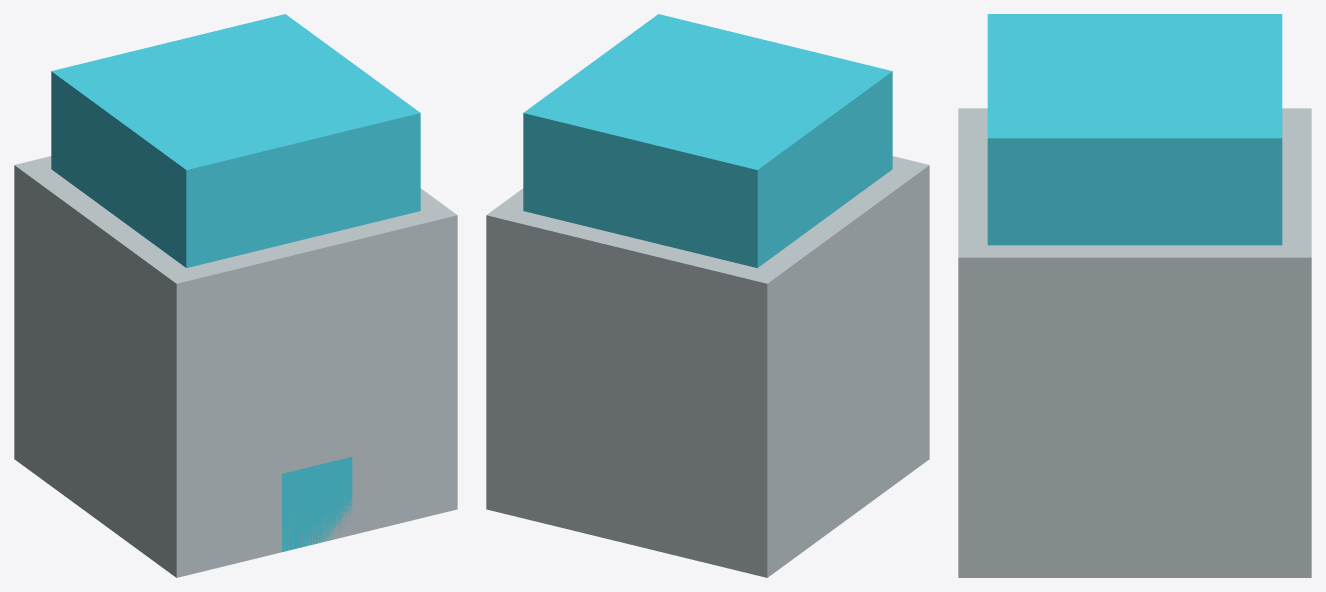
File: building-basic-medium.glb
The picture shows the model from 3 angles, left to right: view 1: azimuth 30°, elevation 25°; view 2: azimuth 150°, elevation 25°; view 3: azimuth 270°, elevation 25°; orthographic projection. The views are drawn at different scales.
Parts seen in each view (by area): view 1: building-basic-medium_tier_1, building-basic-medium_tier_2, building-basic-medium_entrance_frame; view 2: building-basic-medium_tier_1, building-basic-medium_tier_2; view 3: building-basic-medium_tier_1, building-basic-medium_tier_2.
Boxes of the visible parts, x1,y1,x2,y2 form: building-basic-medium_tier_1: [14, 156, 457, 577]; building-basic-medium_tier_2: [51, 14, 420, 267]; building-basic-medium_entrance_frame: [282, 457, 352, 551]; building-basic-medium_tier_1: [486, 156, 929, 577]; building-basic-medium_tier_2: [523, 14, 892, 267]; building-basic-medium_tier_1: [958, 108, 1311, 577]; building-basic-medium_tier_2: [987, 14, 1282, 245].
Size of the model in its own units: 12 by 16 by 12.
